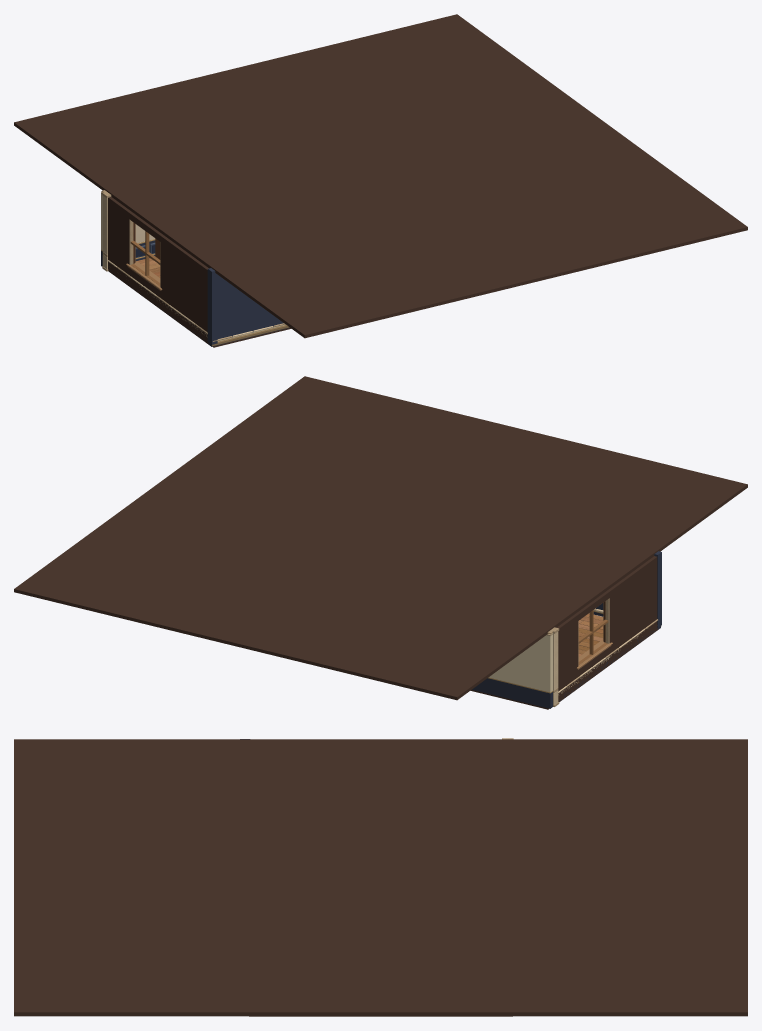
Rendered from arcana-shop.glb.
3 renders of one model, top to bottom at view 1: azimuth 30°, elevation 25°; view 2: azimuth 150°, elevation 25°; view 3: azimuth 270°, elevation 25°, orthographic. The views are drawn at different scales.
Visible parts, largest first — view 1: SunRoof, WestSouthJamb, Front west shadow wall, WestBelowWindow, WestNorthJamb, WestAboveWindow, Southwest sunlight stop; view 2: SunRoof, WestSouthJamb, Plaster, WestBelowWindow, Wainscot, WestAboveWindow, WestNorthJamb, OakPlankFloor; view 3: SunRoof.
Part boxes in pixels (x1=…): SunRoof: x1=14, y1=14, x2=747, y2=338; WestSouthJamb: x1=160, y1=242, x2=207, y2=322; Front west shadow wall: x1=217, y1=275, x2=283, y2=338; WestBelowWindow: x1=108, y1=250, x2=208, y2=344; WestNorthJamb: x1=108, y1=204, x2=129, y2=264; WestAboveWindow: x1=108, y1=197, x2=208, y2=276; Southwest sunlight stop: x1=207, y1=268, x2=217, y2=344; SunRoof: x1=14, y1=376, x2=747, y2=700; WestSouthJamb: x1=609, y1=563, x2=657, y2=642; Plaster: x1=489, y1=634, x2=552, y2=692; WestBelowWindow: x1=558, y1=610, x2=657, y2=701; Wainscot: x1=472, y1=678, x2=552, y2=708; WestAboveWindow: x1=556, y1=556, x2=657, y2=635; WestNorthJamb: x1=558, y1=621, x2=578, y2=681; OakPlankFloor: x1=578, y1=613, x2=603, y2=656; SunRoof: x1=14, y1=739, x2=747, y2=1016.
Bounding box in the file's own units: 8.99 × 1.56 × 10.11.
105 materials, 12 textured.
